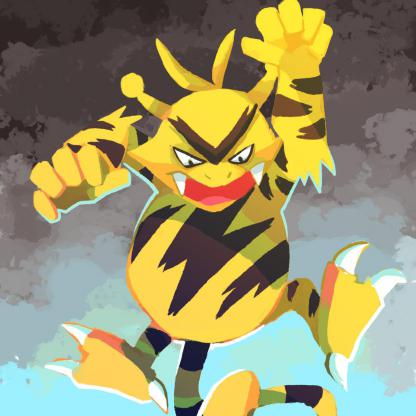Electabuzz: (23, 1, 416, 406)
